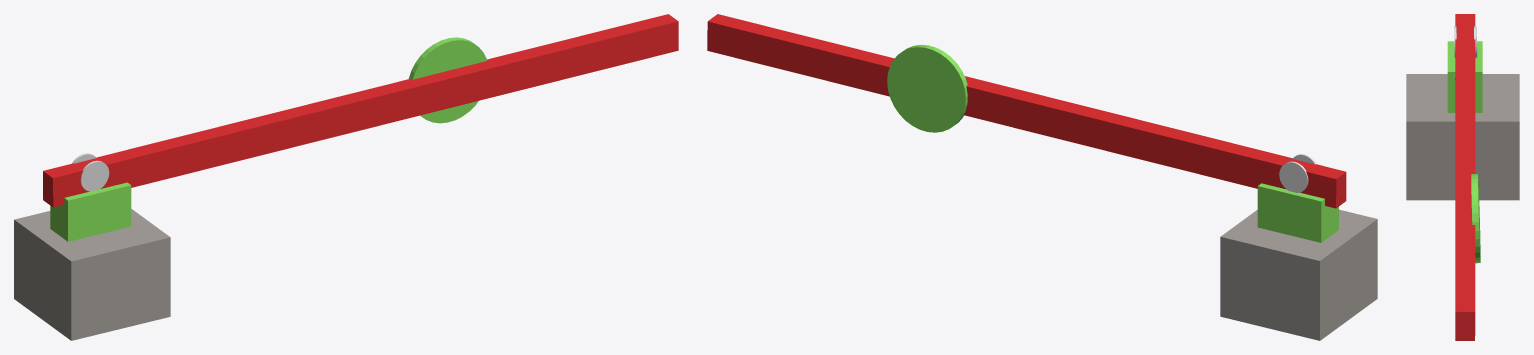
The model's file is shlagbaum.fbx.
3 renders of one model, left to right at view 1: azimuth 30°, elevation 25°; view 2: azimuth 150°, elevation 25°; view 3: azimuth 270°, elevation 25°, orthographic.
Parts seen in each view (by area): view 1: Cube.001, Cube, Cube.002, Cylinder, Cylinder.002; view 2: Cube.001, Cube, Cylinder, Cube.002, Cylinder.001; view 3: Cube, Cube.001, Cube.002, Cylinder.
Part boxes in pixels (x1,y1,x2,y2): Cube.001: (43,14,678,207); Cube: (14,209,170,340); Cube.002: (50,182,131,241); Cylinder: (408,37,487,123); Cylinder.002: (80,160,109,191); Cube.001: (707,14,1346,208); Cube: (1220,209,1377,340); Cylinder: (887,44,967,132); Cube.002: (1257,183,1338,242); Cylinder.001: (1279,161,1308,192); Cube: (1406,74,1519,200); Cube.001: (1455,14,1475,340); Cube.002: (1447,41,1482,112); Cylinder: (1471,174,1480,263).
Bounding box in the file's own units: 2008 × 532 × 315.
